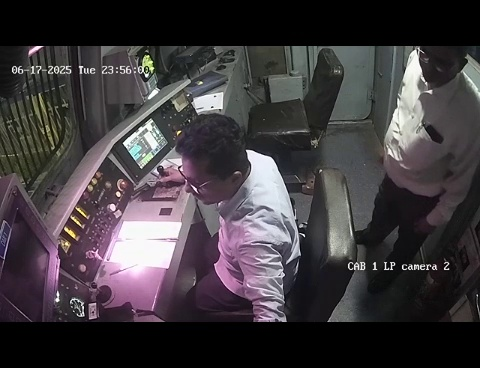horn_inactive: (77, 274, 123, 314)
